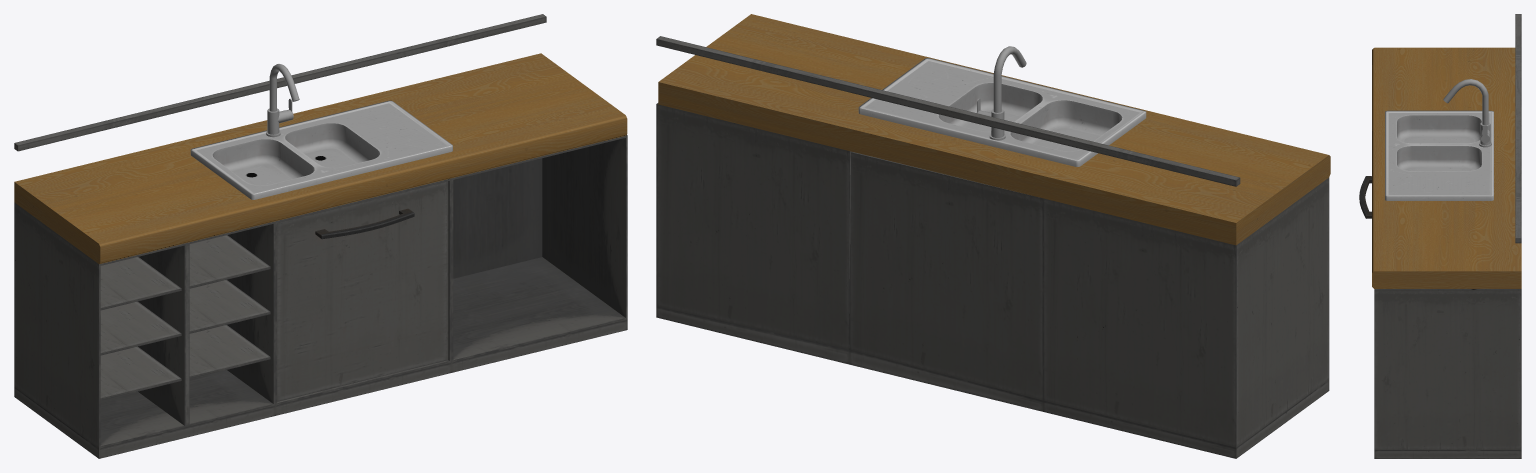
Rendered from SM_KitchenWall.fbx.
3 views of the same model, side by side, from view 1: azimuth 30°, elevation 25°; view 2: azimuth 150°, elevation 25°; view 3: azimuth 270°, elevation 25° (orthographic). The views are drawn at different scales.
Parts seen in each view (by area): view 1: SM_KitchenWall_LOD0; view 2: SM_KitchenWall_LOD0; view 3: SM_KitchenWall_LOD0.
Part boxes in pixels (x1,y1,x2,y2): SM_KitchenWall_LOD0: (14,14,627,458); SM_KitchenWall_LOD0: (656,14,1330,458); SM_KitchenWall_LOD0: (1359,14,1521,458).
Bounding box in the file's own units: 270 × 82.57 × 144.
